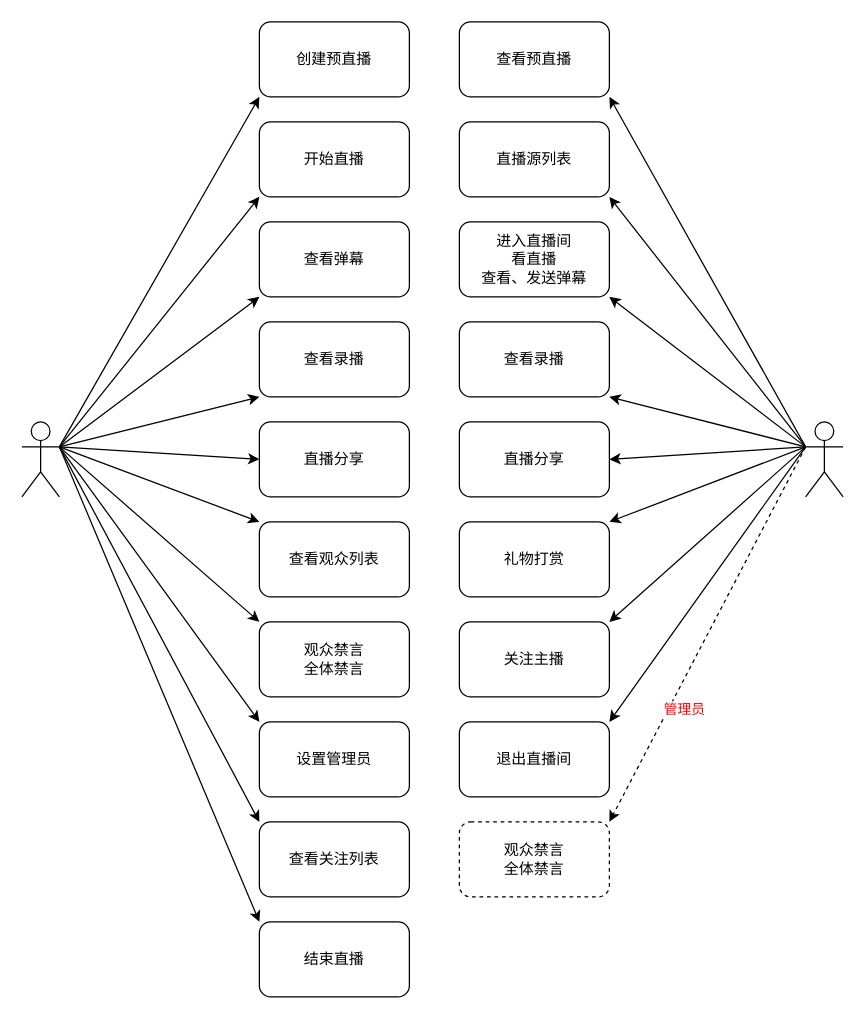
Some shapes in this 865 by 1019 pixel diagram are drawn without their labels. Here are the shapes that lost their labels. From the top down, the centre of each, then its label:
point (40, 459): 医生
point (823, 459): 患者
